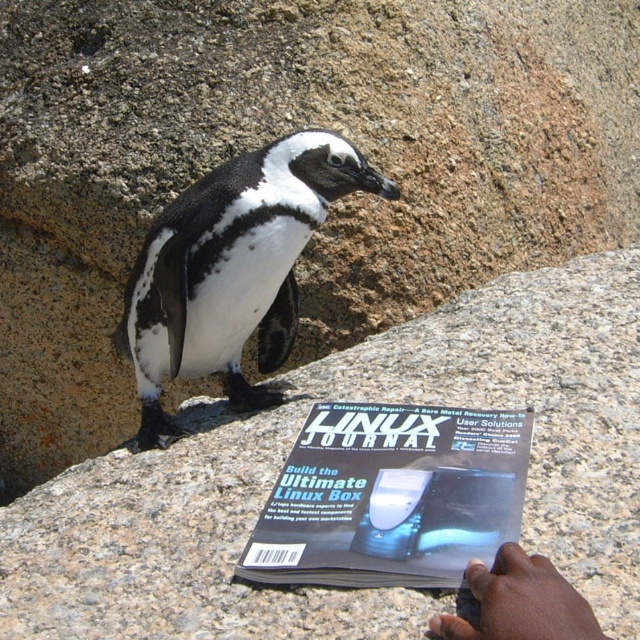Penguin: (108, 128, 403, 445)
